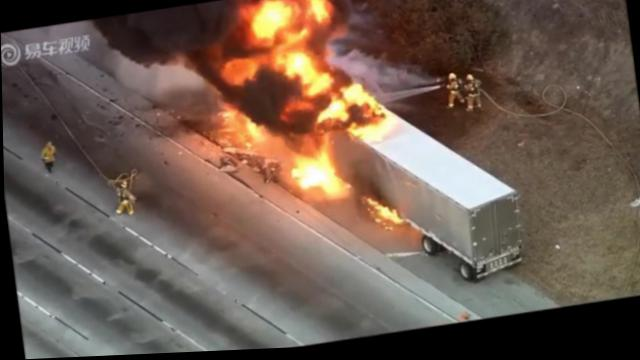fire: (248, 0, 295, 45), (289, 154, 337, 197), (272, 31, 314, 60), (369, 201, 402, 231), (224, 59, 258, 88), (302, 72, 334, 102), (338, 85, 372, 113), (284, 52, 313, 82), (303, 0, 333, 29), (316, 101, 349, 127), (240, 119, 264, 146)
